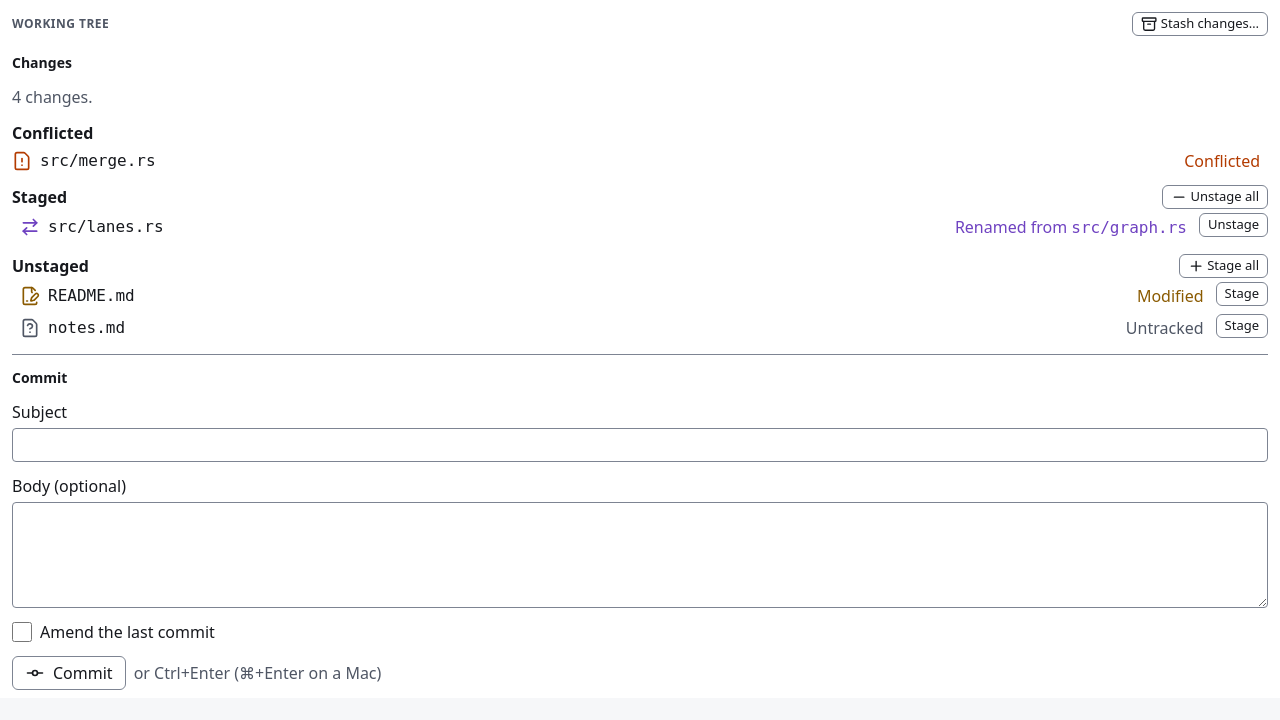
Test: a stage Git refuses says what Git said, and changes nothing
This screenshot has width=1280, height=720.
Check: the text "4 changes." is shown, box 12,86 -> 93,108
Click the button with aria-label "Stage README.md".
click(1242, 294)  # box 1216,282 -> 1268,306
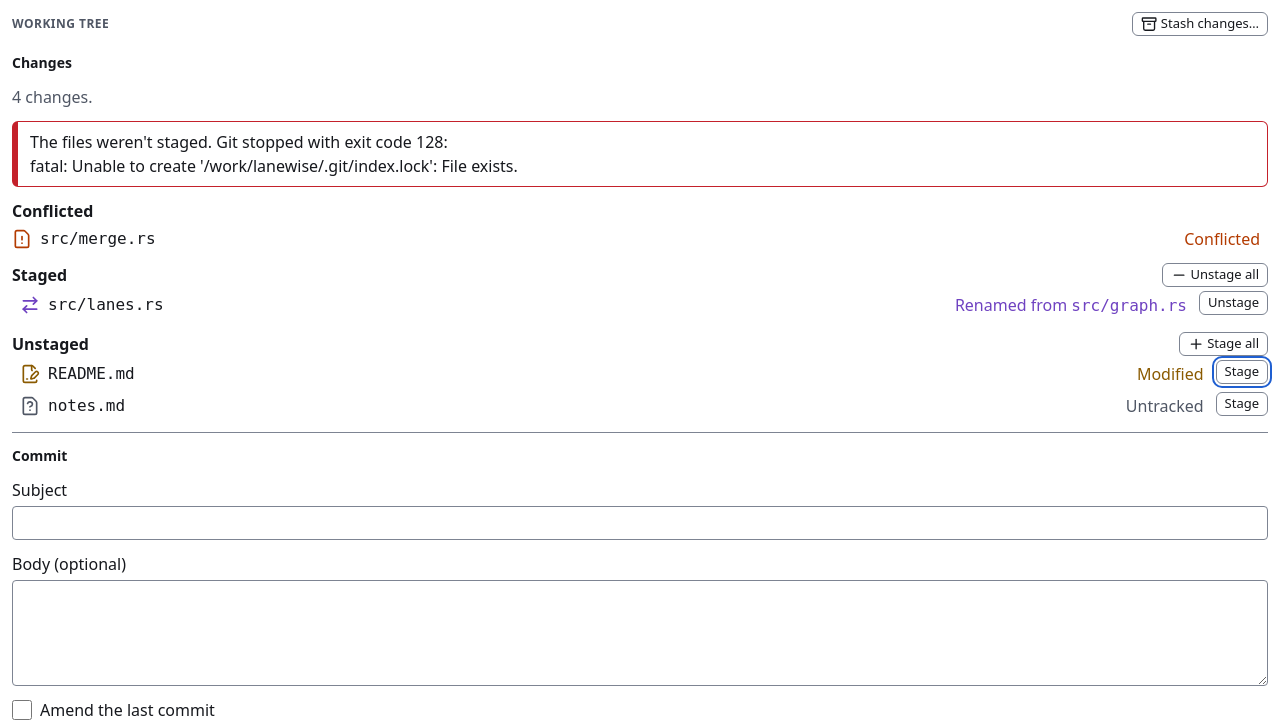
Check: the 2nd message shows "Git stopped with exit code 128", box 30,131 -> 518,177
Check: the 2nd message shows "index.lock': File exists.", box 30,131 -> 518,177
